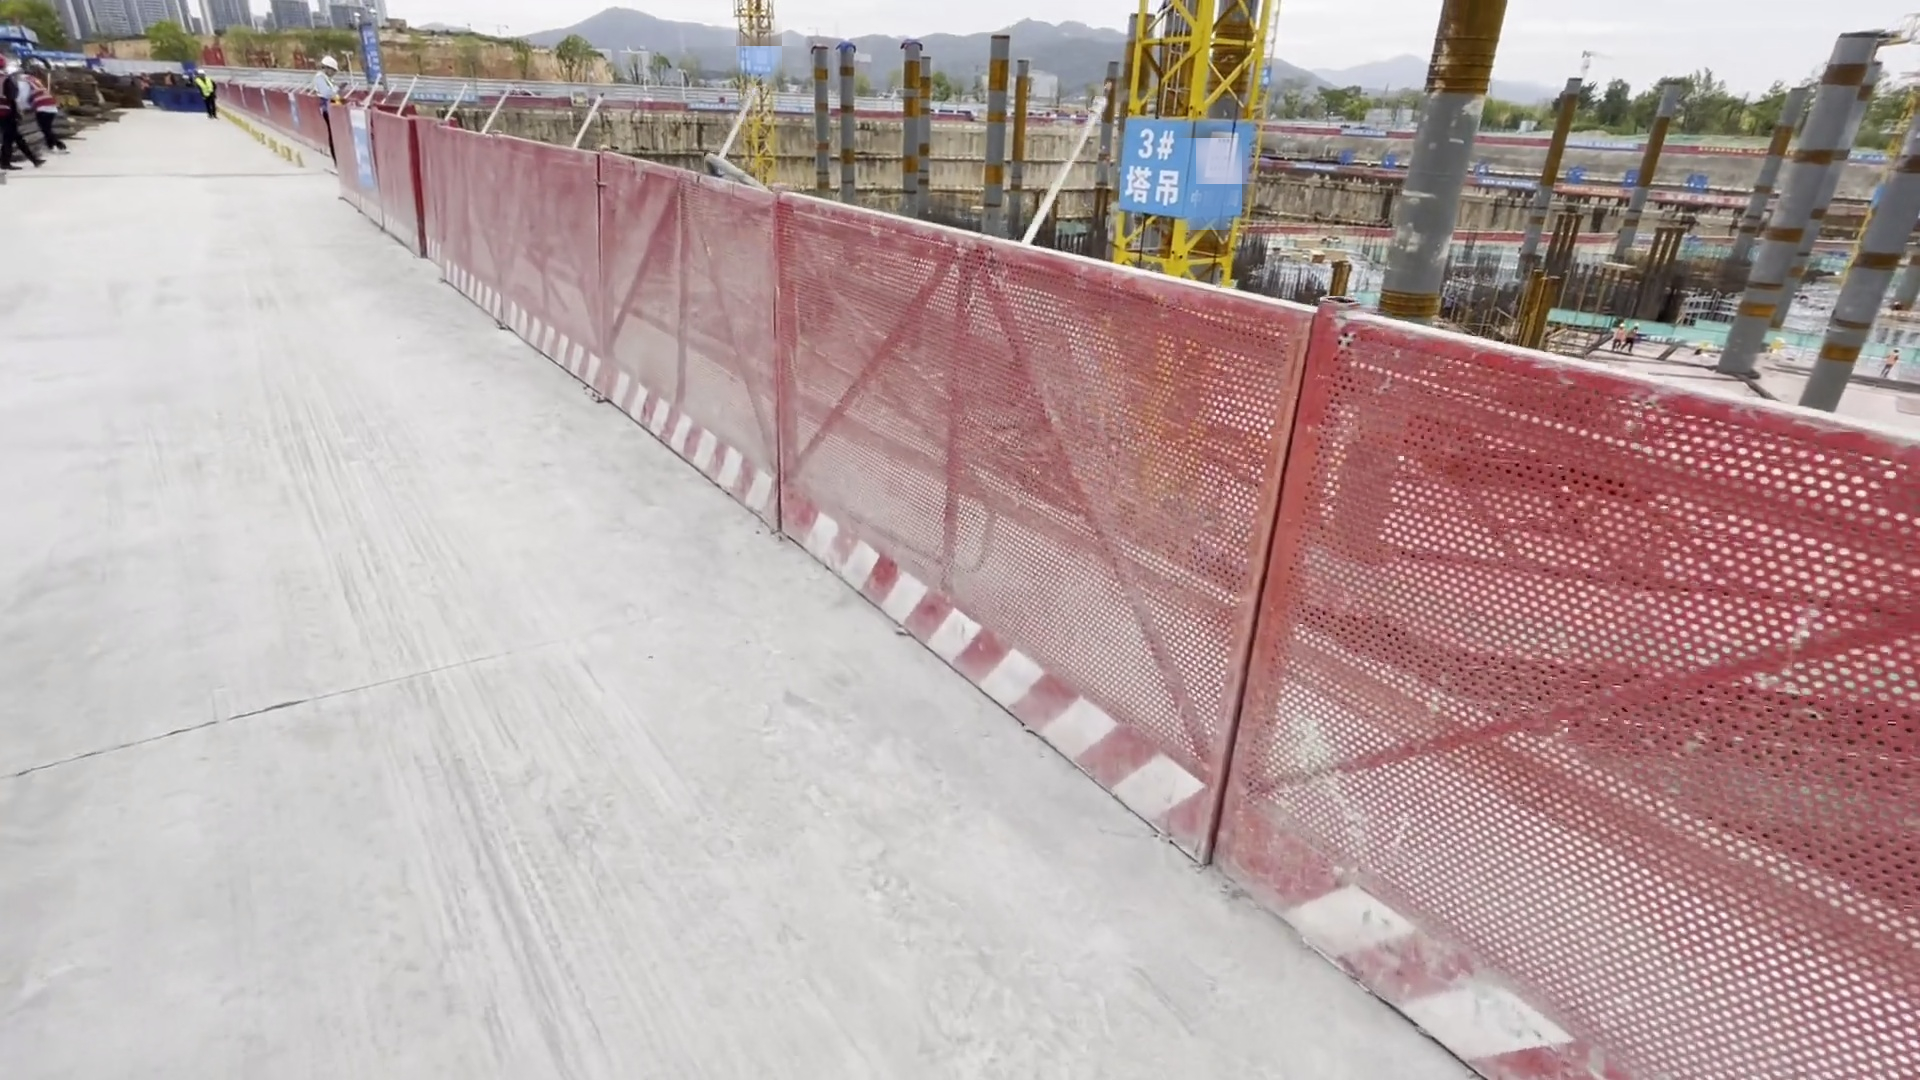helmet: (320, 55, 340, 76)
person: (1, 58, 47, 182), (8, 61, 63, 154), (309, 53, 349, 175), (193, 67, 216, 123)
vest: (23, 76, 56, 116), (194, 78, 213, 97)
